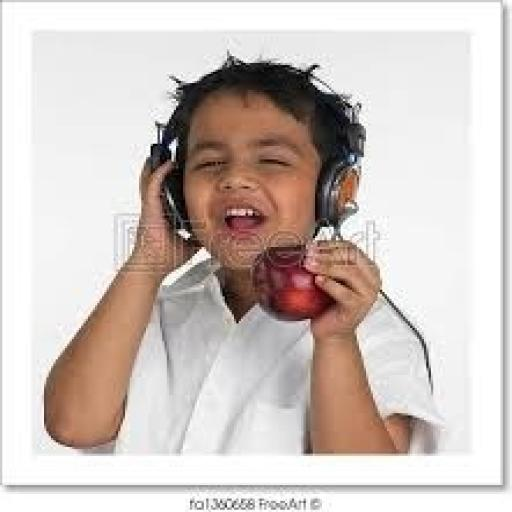listening_to_music: (39, 54, 445, 456)
